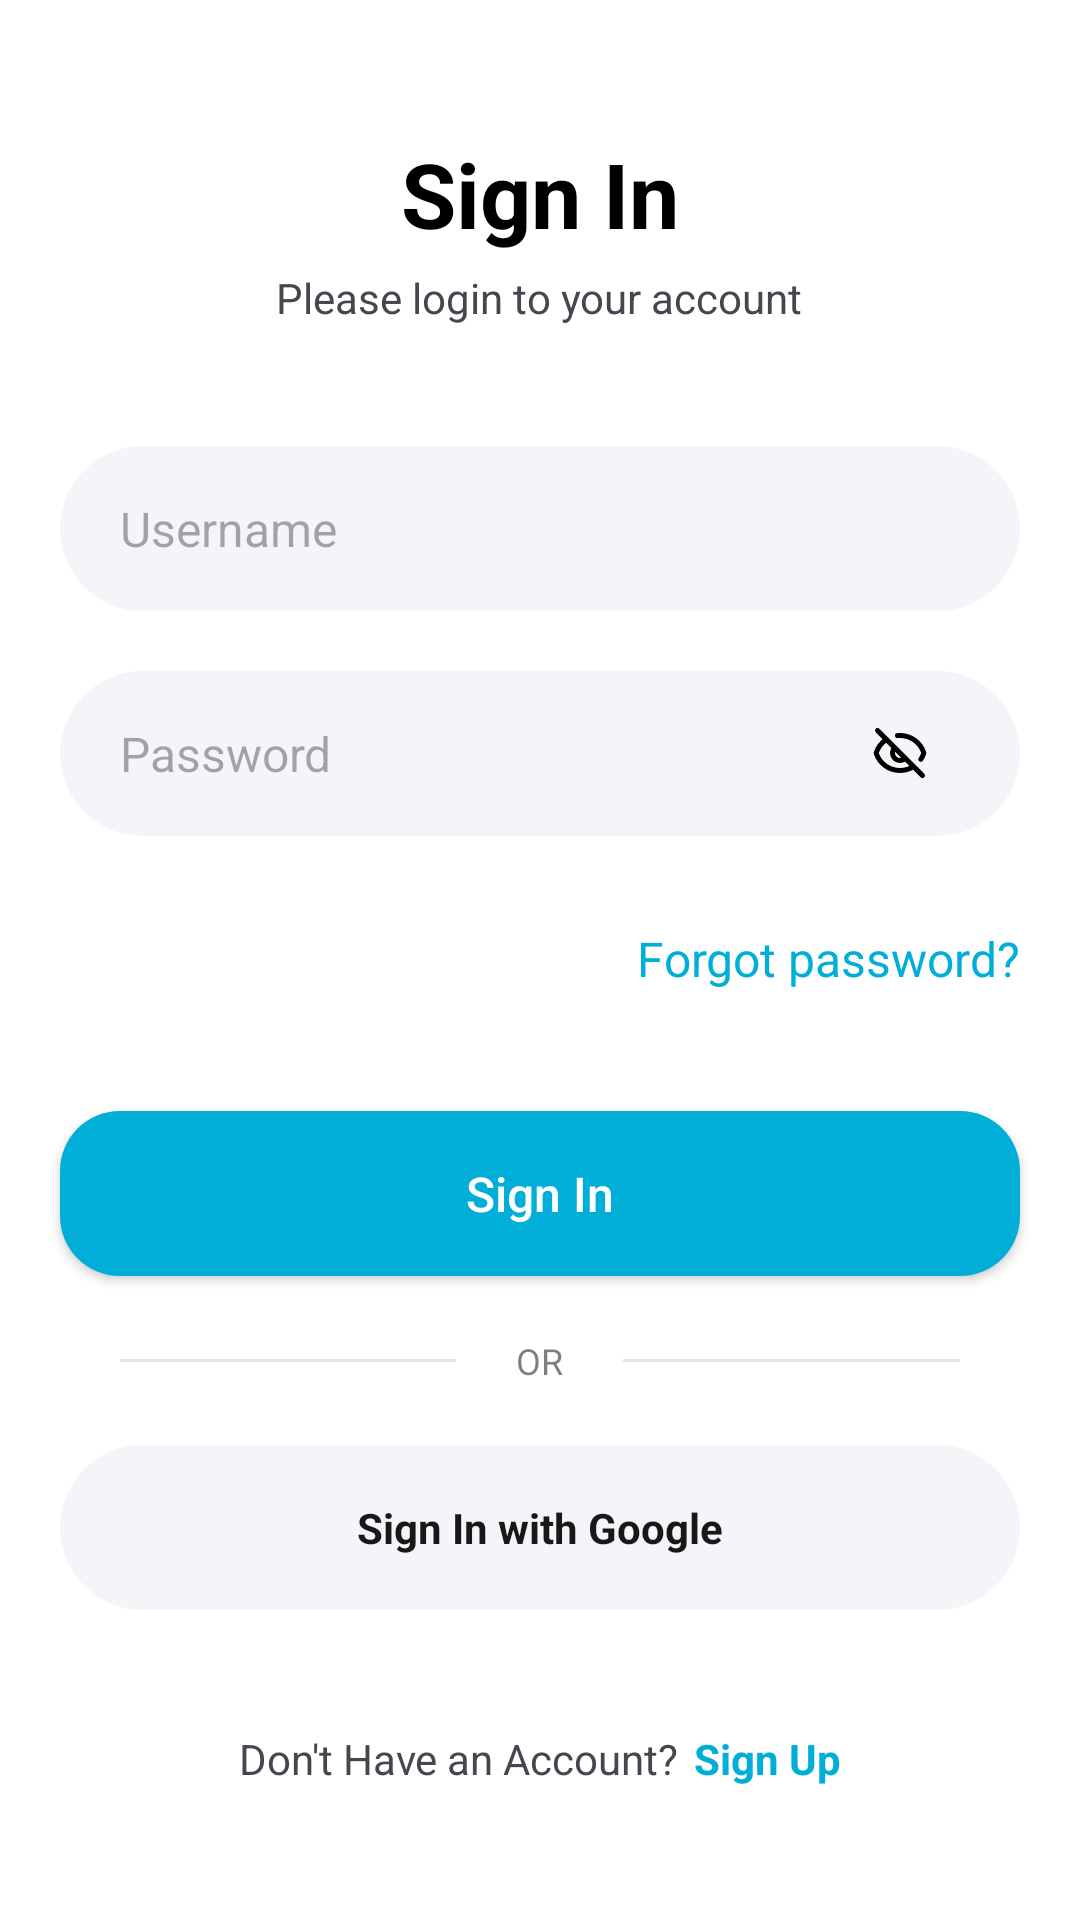

Screen size 1080px x 1920px. Icon name, then its box in pixels as bbox=[x1, y1, x2, y2]:
eye close: bbox=[873, 728, 927, 778]
